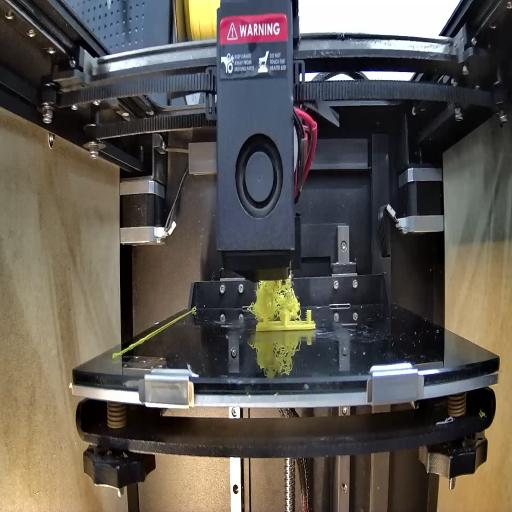spaghetti: (245, 276, 303, 319)
